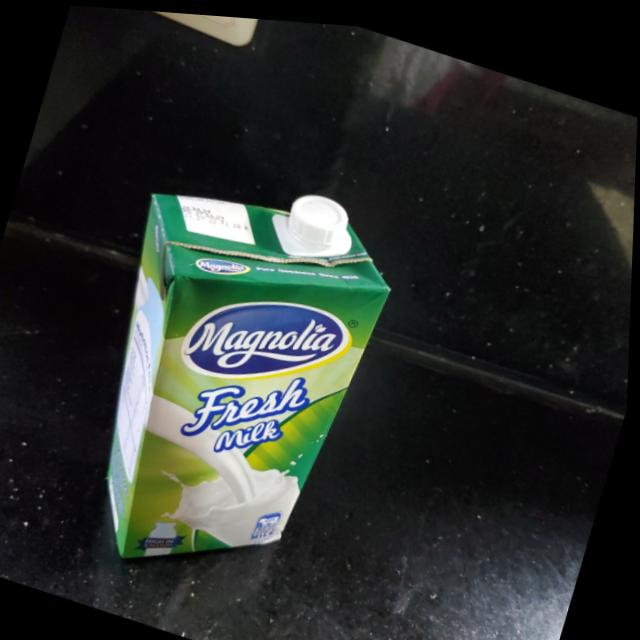milk: (55, 135, 415, 605)
